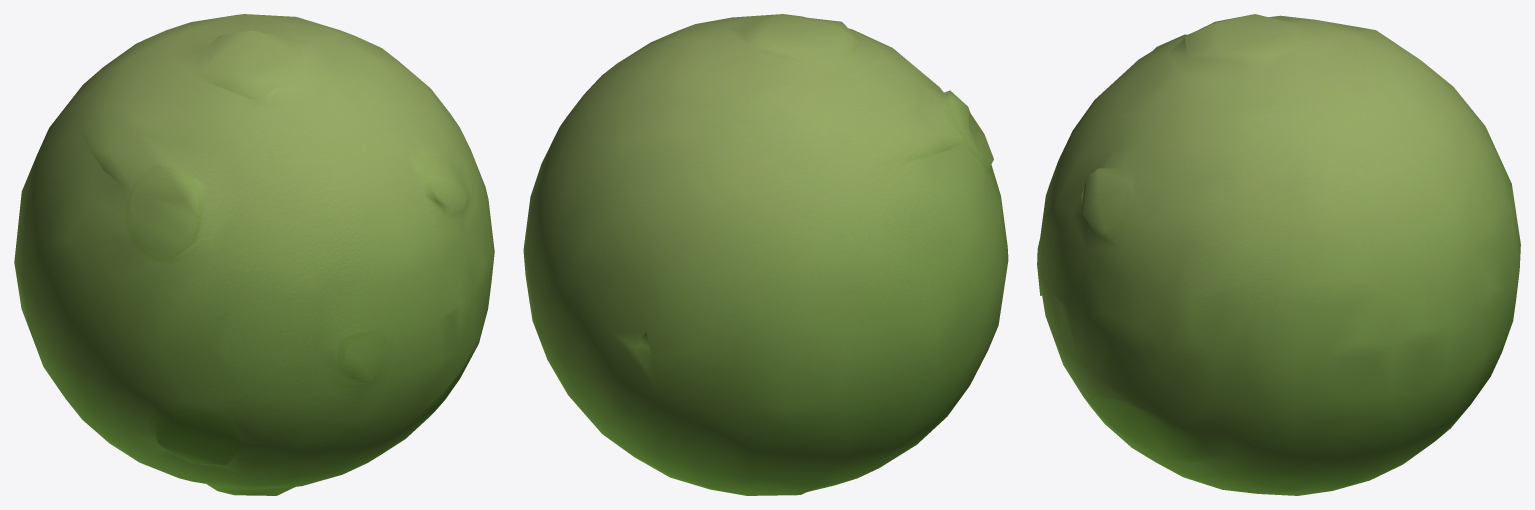
The model's file is green glowing ball 3d model.glb.
The picture shows the model from 3 angles, left to right: view 1: azimuth 30°, elevation 25°; view 2: azimuth 150°, elevation 25°; view 3: azimuth 270°, elevation 25°; orthographic projection.
Visible parts, largest first — view 1: tripo_node_1294c626-1b7e-4666-a9d5-44d3e861ea4d; view 2: tripo_node_1294c626-1b7e-4666-a9d5-44d3e861ea4d; view 3: tripo_node_1294c626-1b7e-4666-a9d5-44d3e861ea4d.
Boxes of the visible parts, box(x1,y1,x2,y2) form: tripo_node_1294c626-1b7e-4666-a9d5-44d3e861ea4d: box(14, 14, 494, 495); tripo_node_1294c626-1b7e-4666-a9d5-44d3e861ea4d: box(523, 14, 1008, 495); tripo_node_1294c626-1b7e-4666-a9d5-44d3e861ea4d: box(1037, 14, 1520, 495).
Size of the model in its own units: 0.9748 by 0.984 by 0.9734.
1 material, 1 textured.
